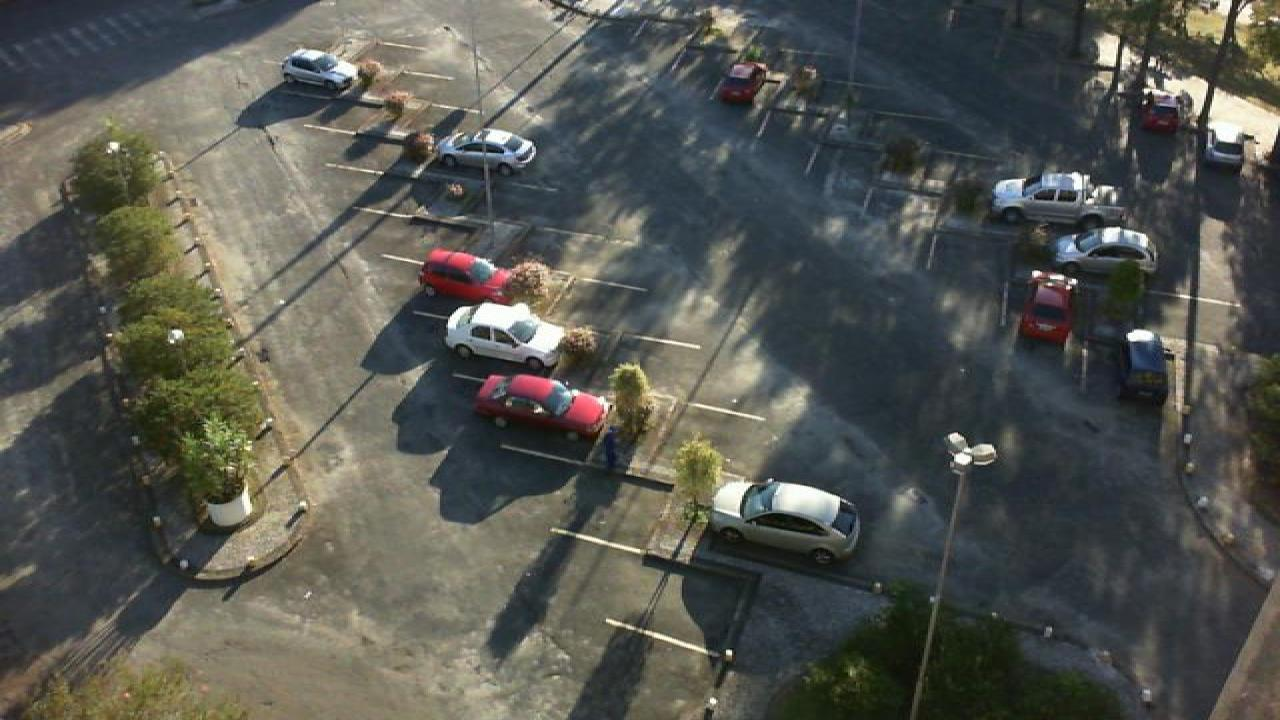Car: (706, 476, 864, 565), (472, 372, 612, 440), (442, 302, 566, 374), (986, 171, 1128, 224), (416, 246, 514, 302), (1048, 226, 1158, 275), (1014, 270, 1082, 345), (434, 127, 540, 172), (278, 47, 366, 98), (1118, 328, 1172, 400), (1140, 88, 1196, 135), (1198, 123, 1250, 171), (714, 60, 768, 106)
